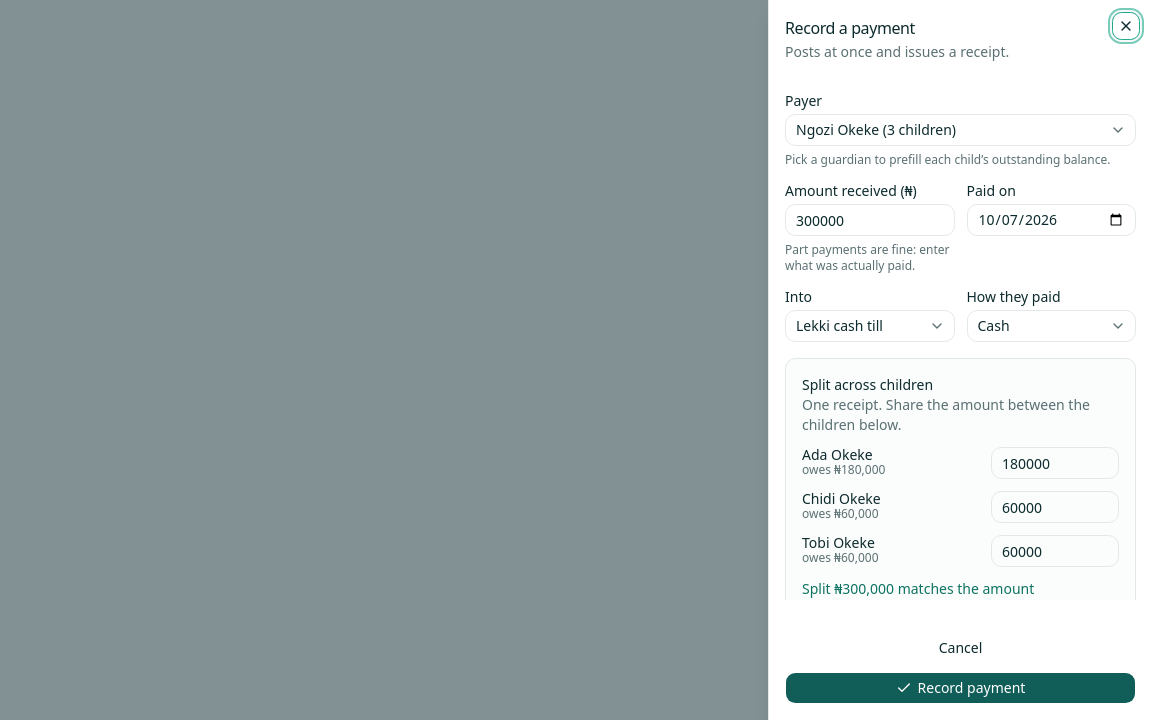
Test case: RecordPaymentSheet › warns when the rows no longer add up to the amount
The image size is (1152, 720).
Replace the text in the field named "Amount for Ada Okeke" with "100000" at (1055, 463), box [991,447,1119,479]
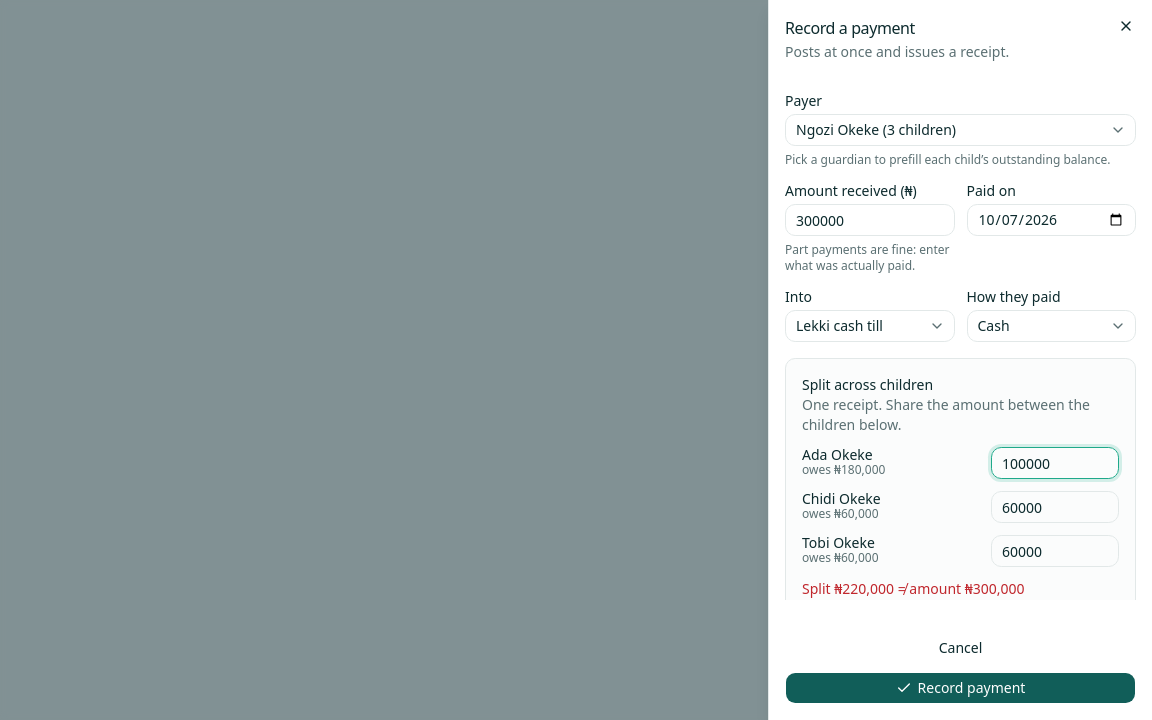
Result: the text "Split ₦220,000 ≠ amount ₦300,000" is shown at [802,579,1024,598]
